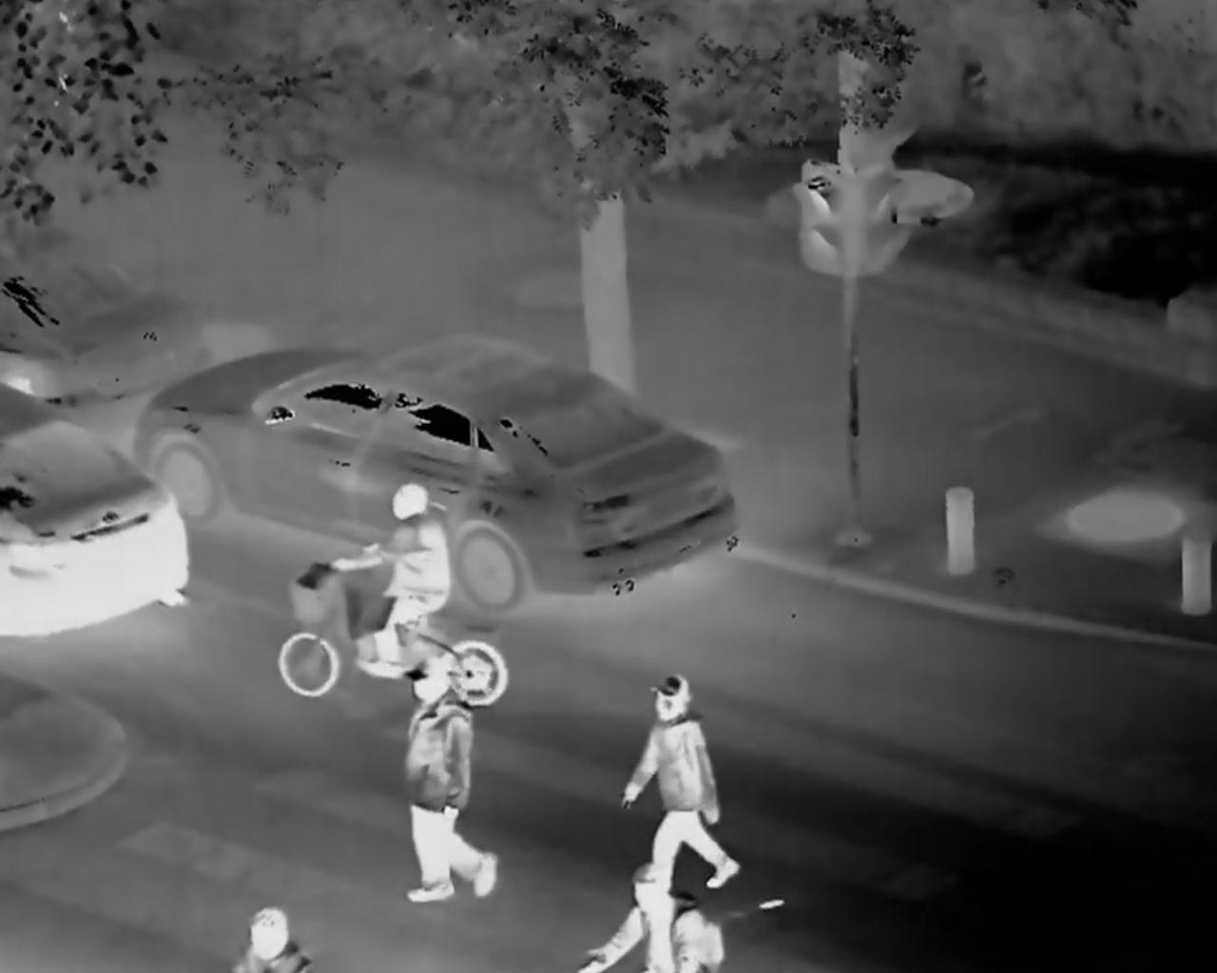person: (325, 486, 462, 677), (629, 680, 744, 890), (405, 659, 499, 904), (589, 866, 724, 973), (220, 901, 316, 973)
